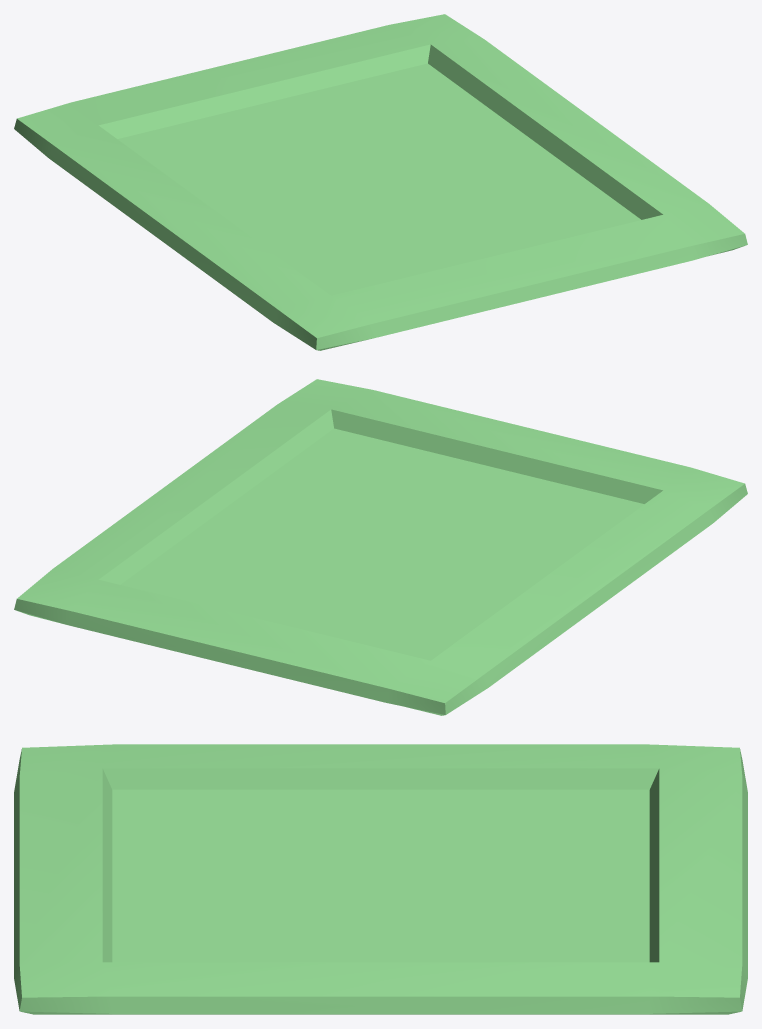
File: Test_Kitchen-Floor-Layout-plane.obj
The picture shows the model from 3 angles, top to bottom: view 1: azimuth 30°, elevation 25°; view 2: azimuth 150°, elevation 25°; view 3: azimuth 270°, elevation 25°; orthographic projection. The views are drawn at different scales.
Visible parts, largest first — view 1: Painting1; view 2: Painting1; view 3: Painting1.
Boxes of the visible parts, x1,y1,x2,y2 form: Painting1: (14, 14, 747, 350); Painting1: (14, 379, 747, 715); Painting1: (14, 744, 747, 1014).
Size of what is drawn, in the model's own units: 13.66 by 0.714 by 16.5.
